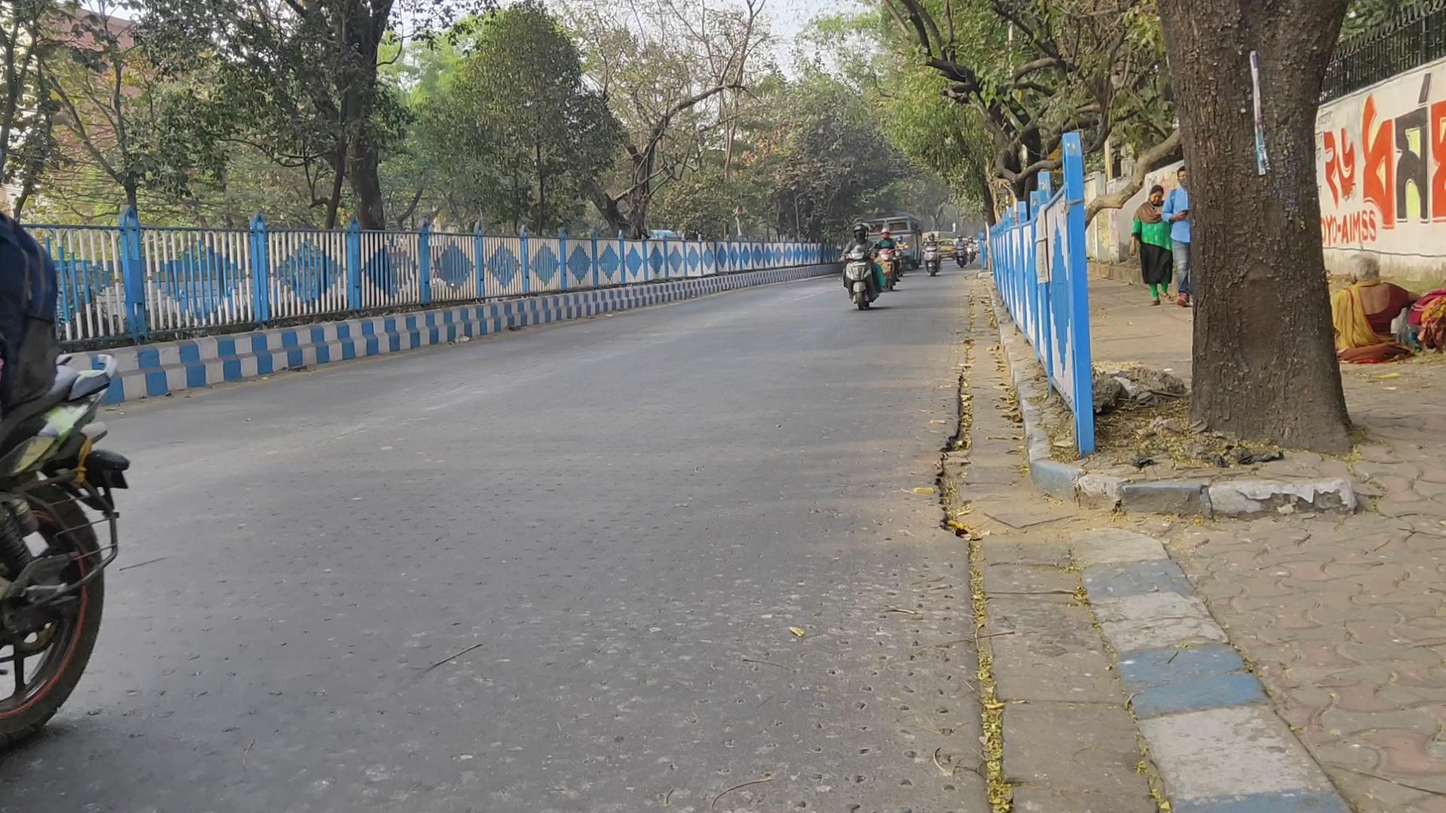Bus: (863, 210, 924, 272)
bike: (835, 221, 882, 310), (872, 227, 899, 294), (921, 232, 941, 278), (894, 234, 910, 273), (953, 232, 968, 268)
